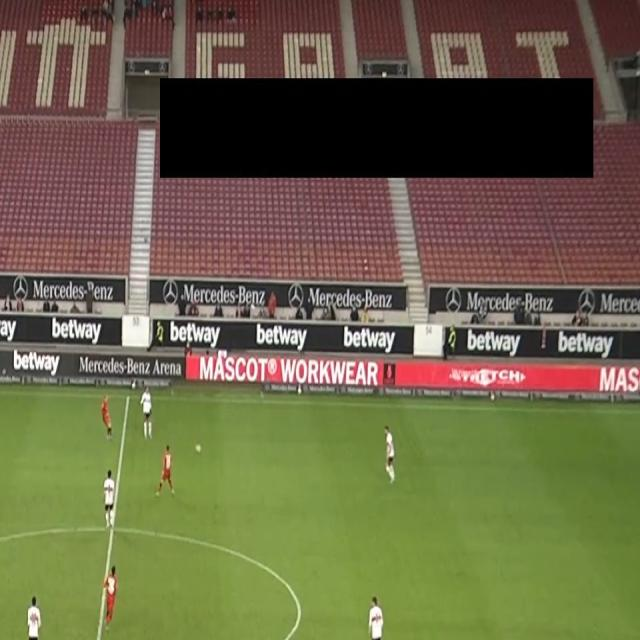ball: (195, 442, 202, 455)
